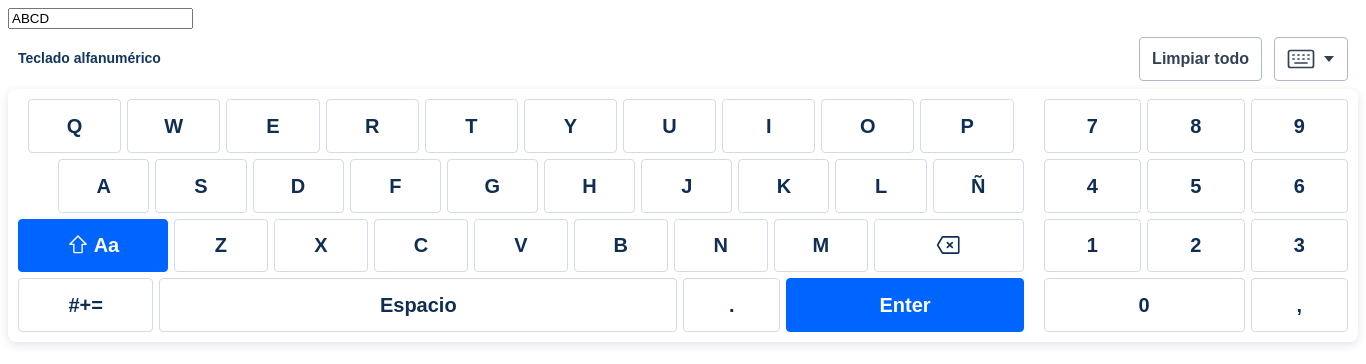
Test: TouchAlphaKeyboard › edits native email inputs without using the unsupported selection API
Click the button "Z" at [221, 245], box [174,218,268,272]
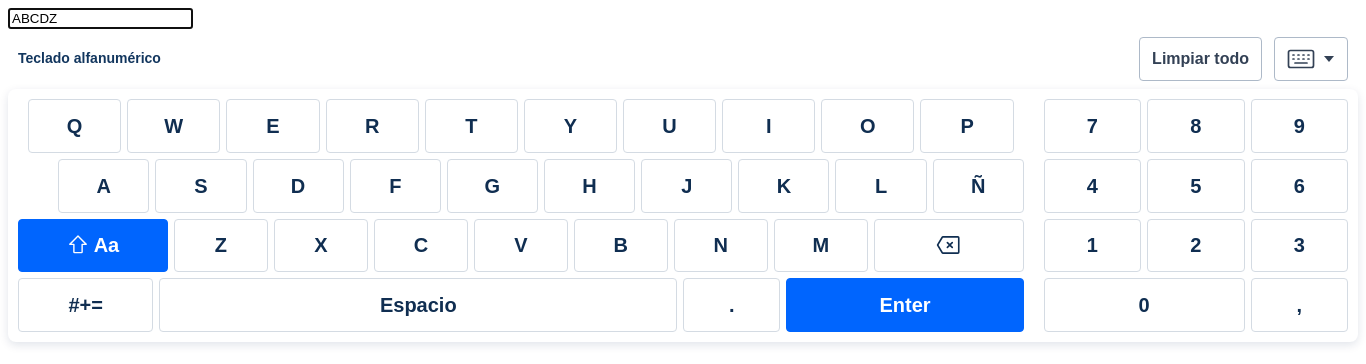
Check: the field named "Entrada" holds "ABCDZ", box [8,8,193,29]
Click the button named "Borrar carácter" at [949, 245], box [874,218,1024,272]
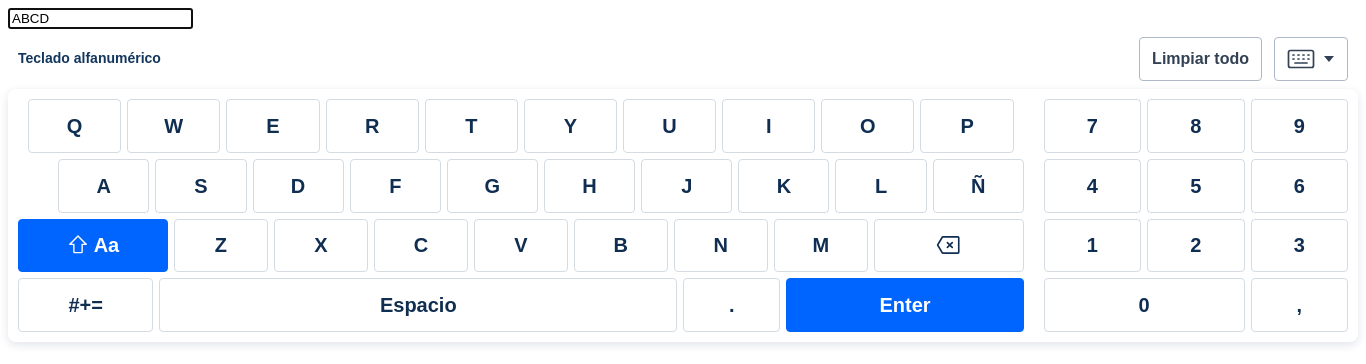
Check: the field named "Entrada" holds "ABCD", box [8,8,193,29]
